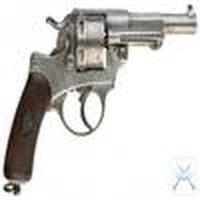gun: (1, 6, 197, 189)
